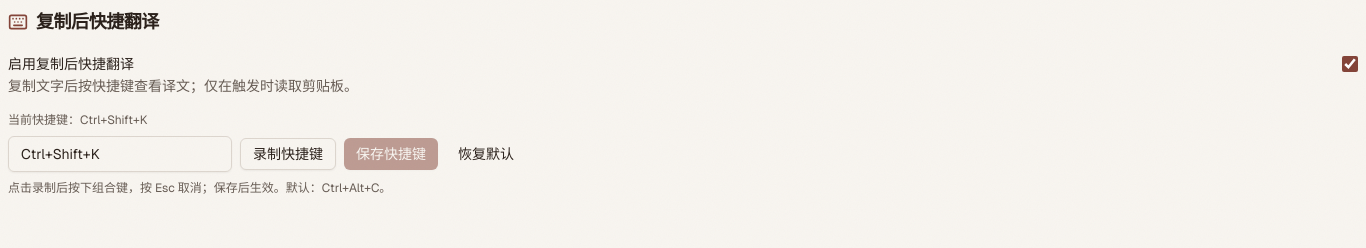
Test: screenshot shortcut settings › restores the clipboard default and preserves registration errors
What coordinates should you click on to do the following:
click the button "恢复默认"
I would click on:
 (486, 154)
Its box is [446,138,526,170].
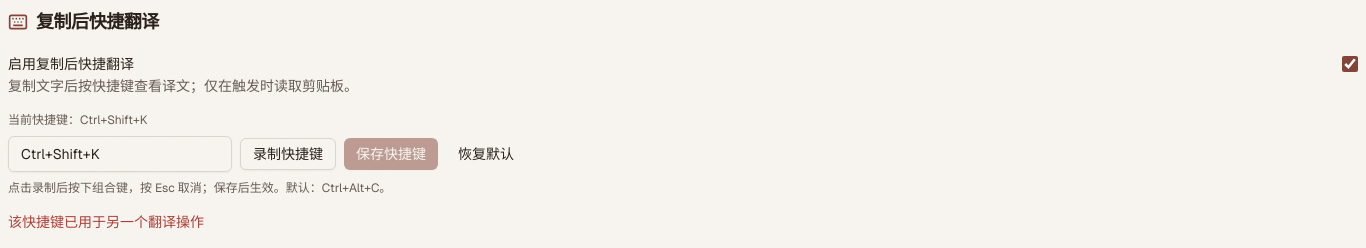
Expected: the field holds "Ctrl+Shift+K", [8,136,232,172]
Now the message shows "另一个翻译操作", box [8,213,204,231]
